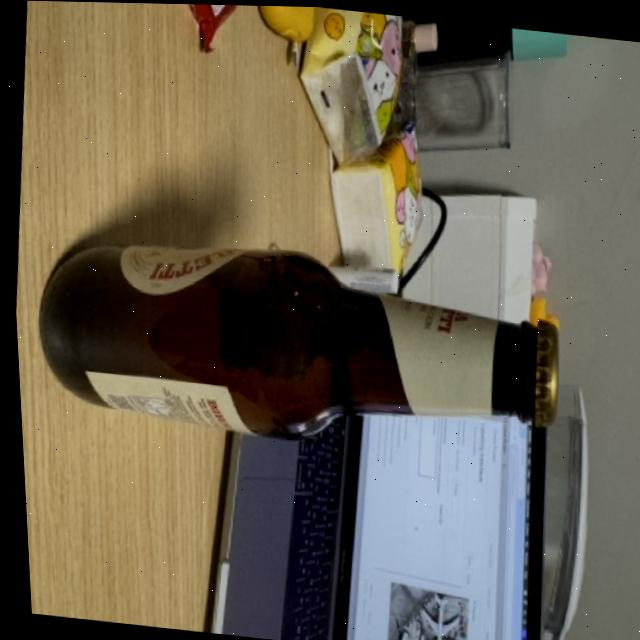beer: (16, 208, 581, 476)
